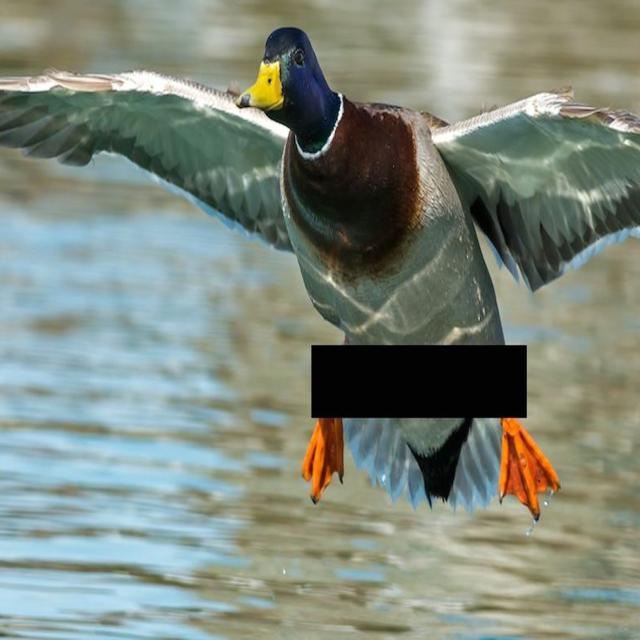Duck: (1, 21, 640, 517)
